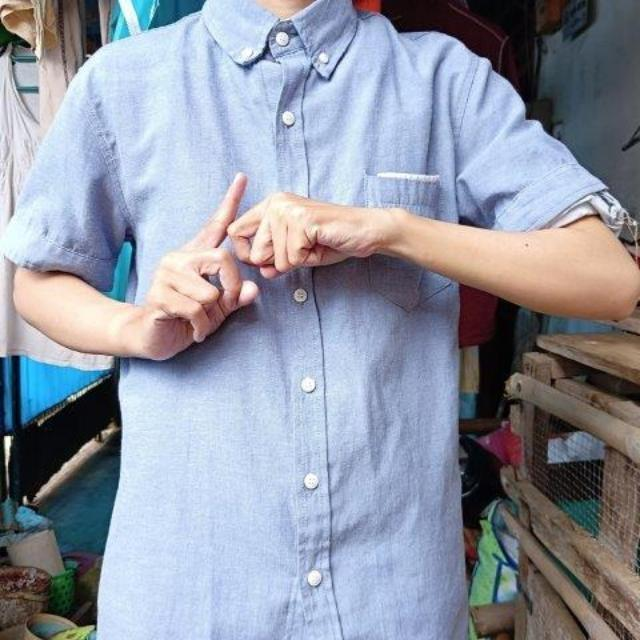K: (154, 157, 333, 343)
